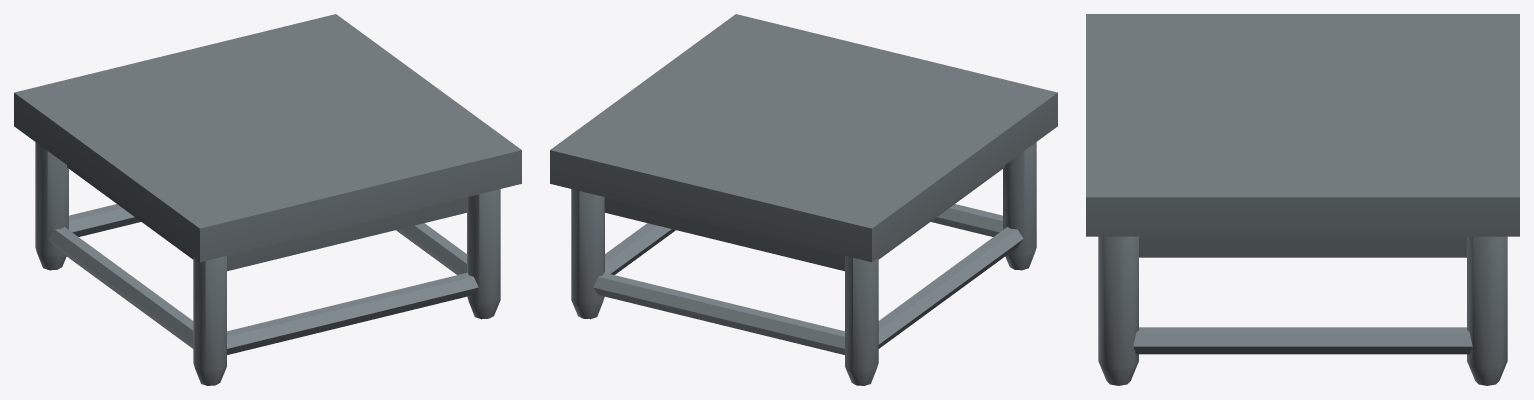
The model's file is Kitchen Table.glb.
3 renders of one model, left to right at view 1: azimuth 30°, elevation 25°; view 2: azimuth 150°, elevation 25°; view 3: azimuth 270°, elevation 25°, orthographic. The views are drawn at different scales.
Visible parts, largest first — view 1: kitchentable_A; view 2: kitchentable_A; view 3: kitchentable_A.
Part boxes in pixels (left/top/right/bottom): kitchentable_A: left=14, top=14, right=521, bottom=385; kitchentable_A: left=550, top=14, right=1057, bottom=385; kitchentable_A: left=1086, top=14, right=1519, bottom=385.
Size of the model in its own units: 2 by 1 by 2.
1 material, 1 textured.
